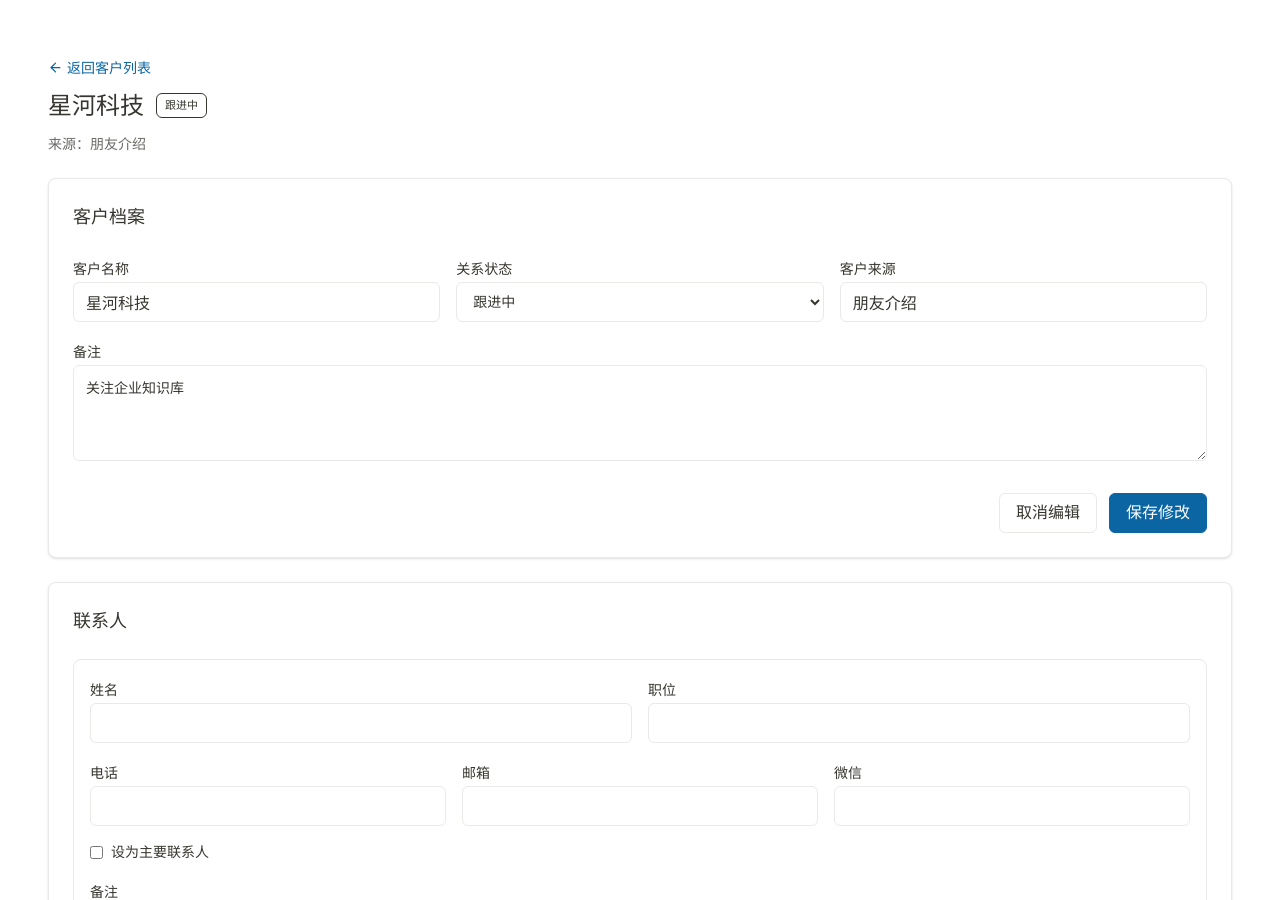
CustomerDetailPage › 取消编辑客户档案后回到只读展示
Click the button "取消编辑": [1048, 513] box [999,493,1097,533]
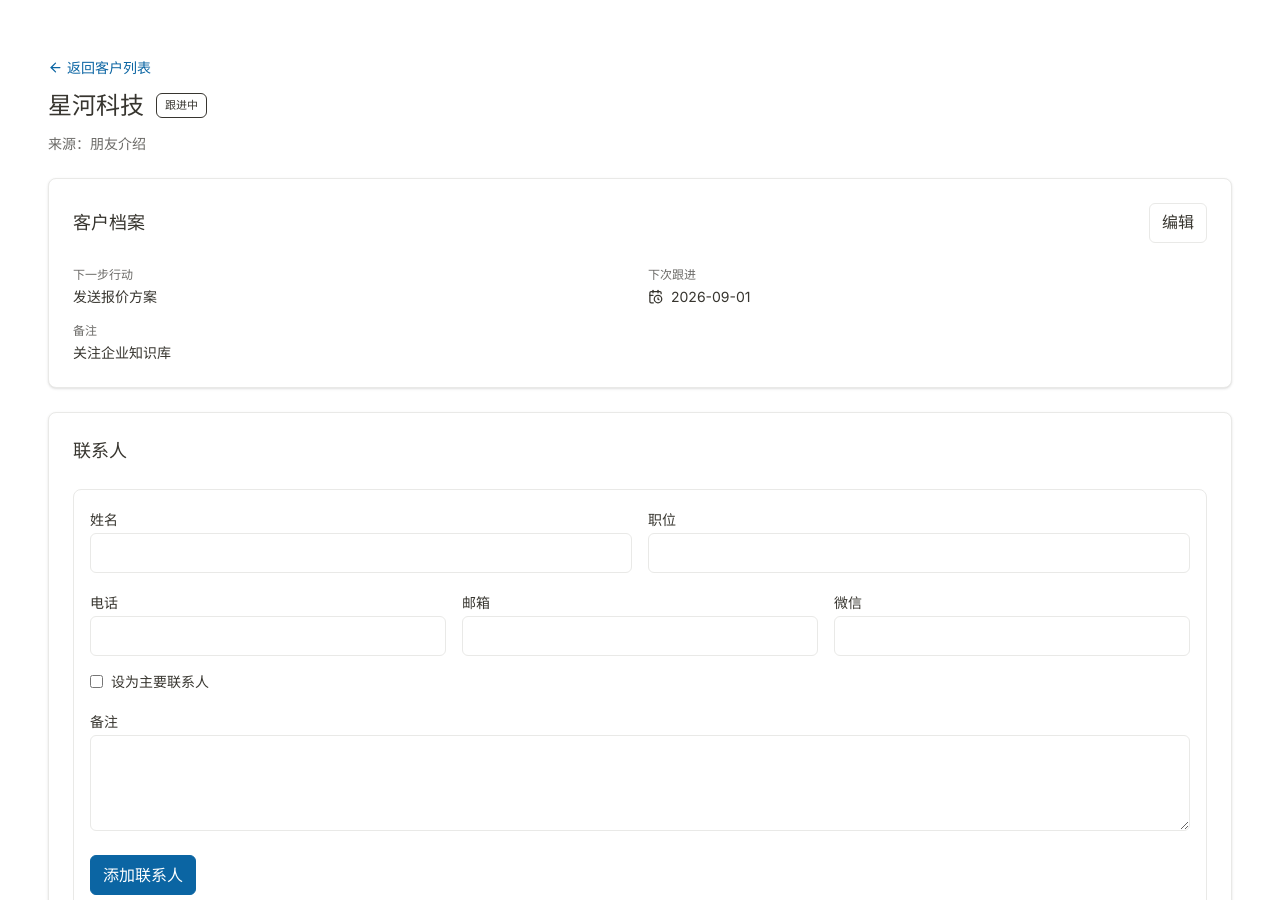
Expected: the button with aria-label "编辑客户档案" is shown, [1149,202,1207,242]
Result: the label labelled "客户名称" is gone
Result: the text "发送报价方案" is shown at [73,288,157,304]
